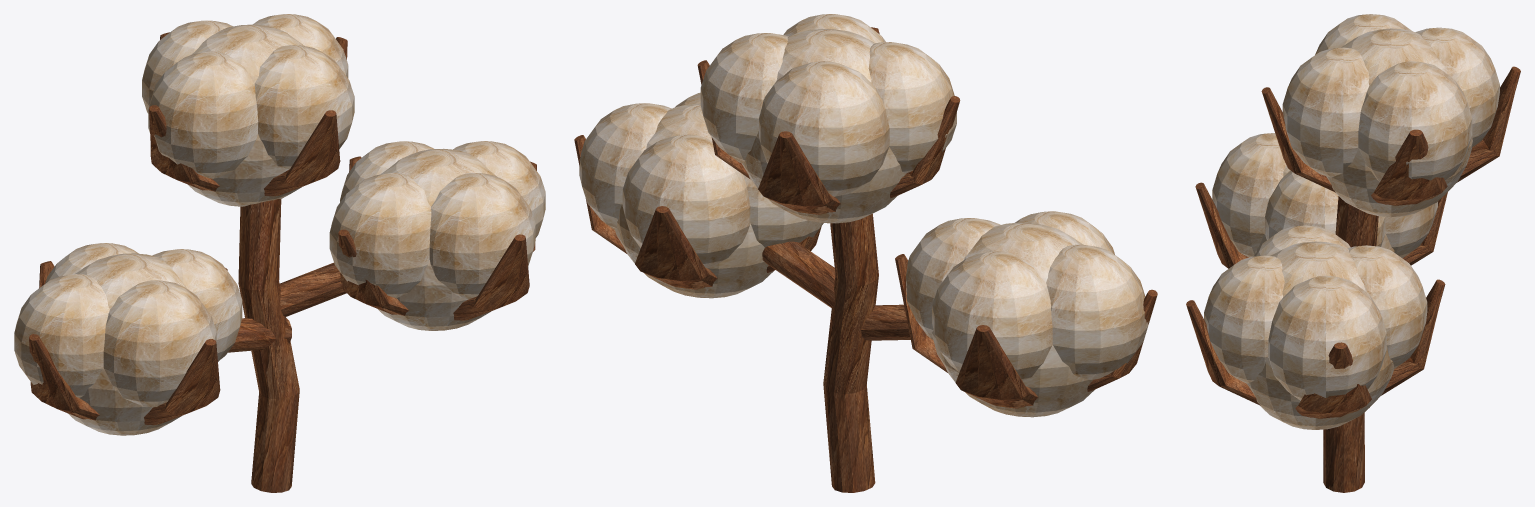
File: cotton.obj
3 renders of one model, left to right at view 1: azimuth 30°, elevation 25°; view 2: azimuth 150°, elevation 25°; view 3: azimuth 270°, elevation 25°, orthographic. The views are drawn at different scales.
Parts seen in each view (by area): view 1: stem, cotton_2_2, cotton_0_3, cotton_1_2, cotton_1_3, cotton_2_3, cotton_0_2, boll_1, boll_2, boll_0, cotton_0_0, husk_2_3 (+12 smaller); view 2: cotton_2_1, stem, cotton_1_1, cotton_0_1, cotton_0_2, cotton_2_2, cotton_2_0, boll_2, boll_0, cotton_1_0, boll_1, cotton_0_0 (+12 smaller); view 3: cotton_1_0, cotton_2_0, cotton_2_3, cotton_1_3, boll_1, cotton_0_3, boll_2, cotton_1_1, stem, cotton_2_1, cotton_0_0, husk_2_0 (+10 smaller).
Part boxes in pixels (left/top/right/bottom): stem: left=238, top=199, right=299, bottom=492; cotton_2_2: left=148, top=51, right=257, bottom=178; cotton_0_3: left=103, top=280, right=216, bottom=407; cotton_1_2: left=329, top=173, right=431, bottom=298; cotton_1_3: left=429, top=173, right=535, bottom=298; cotton_2_3: left=254, top=45, right=354, bottom=169; cotton_0_2: left=14, top=274, right=109, bottom=397; boll_1: left=378, top=148, right=496, bottom=330; boll_2: left=188, top=24, right=304, bottom=206; boll_0: left=68, top=253, right=186, bottom=435; cotton_0_0: left=152, top=249, right=242, bottom=361; husk_2_3: left=264, top=110, right=340, bottom=196; cotton_2_1: left=759, top=61, right=889, bottom=196; stem: left=823, top=214, right=878, bottom=492; cotton_1_1: left=622, top=134, right=750, bottom=268; cotton_0_1: left=932, top=251, right=1052, bottom=380; cotton_0_2: left=1046, top=244, right=1148, bottom=379; cotton_2_2: left=868, top=42, right=956, bottom=173; cotton_2_0: left=700, top=33, right=788, bottom=163; boll_2: left=742, top=29, right=906, bottom=223; boll_0: left=931, top=222, right=1094, bottom=417; cotton_1_0: left=579, top=103, right=671, bottom=229; boll_1: left=615, top=103, right=773, bottom=298; cotton_0_0: left=906, top=218, right=1000, bottom=339; cotton_1_0: left=1268, top=275, right=1386, bottom=400; cotton_2_0: left=1358, top=61, right=1472, bottom=181; cotton_2_3: left=1282, top=47, right=1369, bottom=177; cotton_1_3: left=1204, top=255, right=1284, bottom=383; boll_1: left=1247, top=241, right=1393, bottom=429; cotton_0_3: left=1212, top=133, right=1286, bottom=257; boll_2: left=1326, top=28, right=1472, bottom=217; cotton_1_1: left=1347, top=245, right=1427, bottom=368; stem: left=1323, top=196, right=1378, bottom=492; cotton_2_1: left=1415, top=27, right=1499, bottom=147; cotton_0_0: left=1265, top=170, right=1385, bottom=246; husk_2_0: left=1371, top=129, right=1447, bottom=205.
Bounding box in the file's own units: 103 × 82.16 × 55.78.
2 materials, 2 textured.
